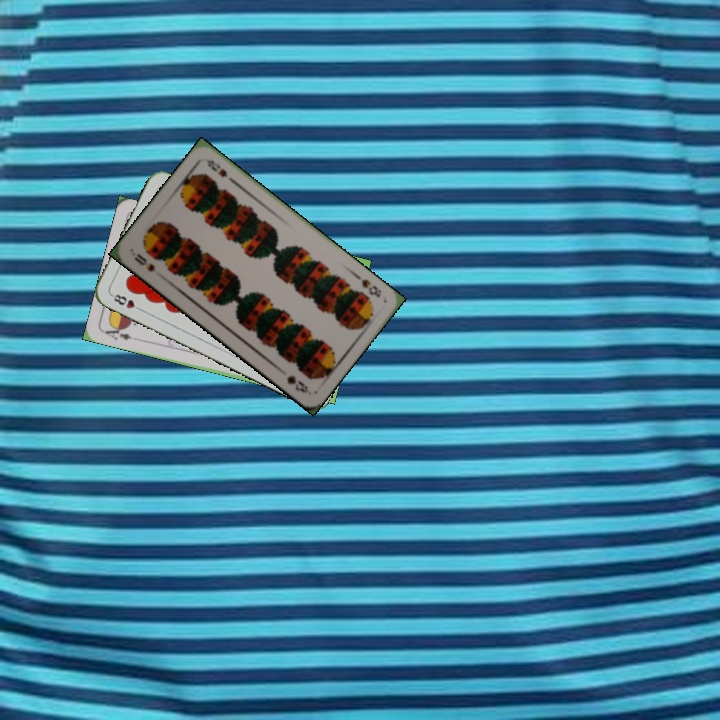EA: (99, 321, 140, 343)
H8: (107, 290, 145, 314)
S8: (351, 271, 384, 300), (130, 249, 158, 274)
